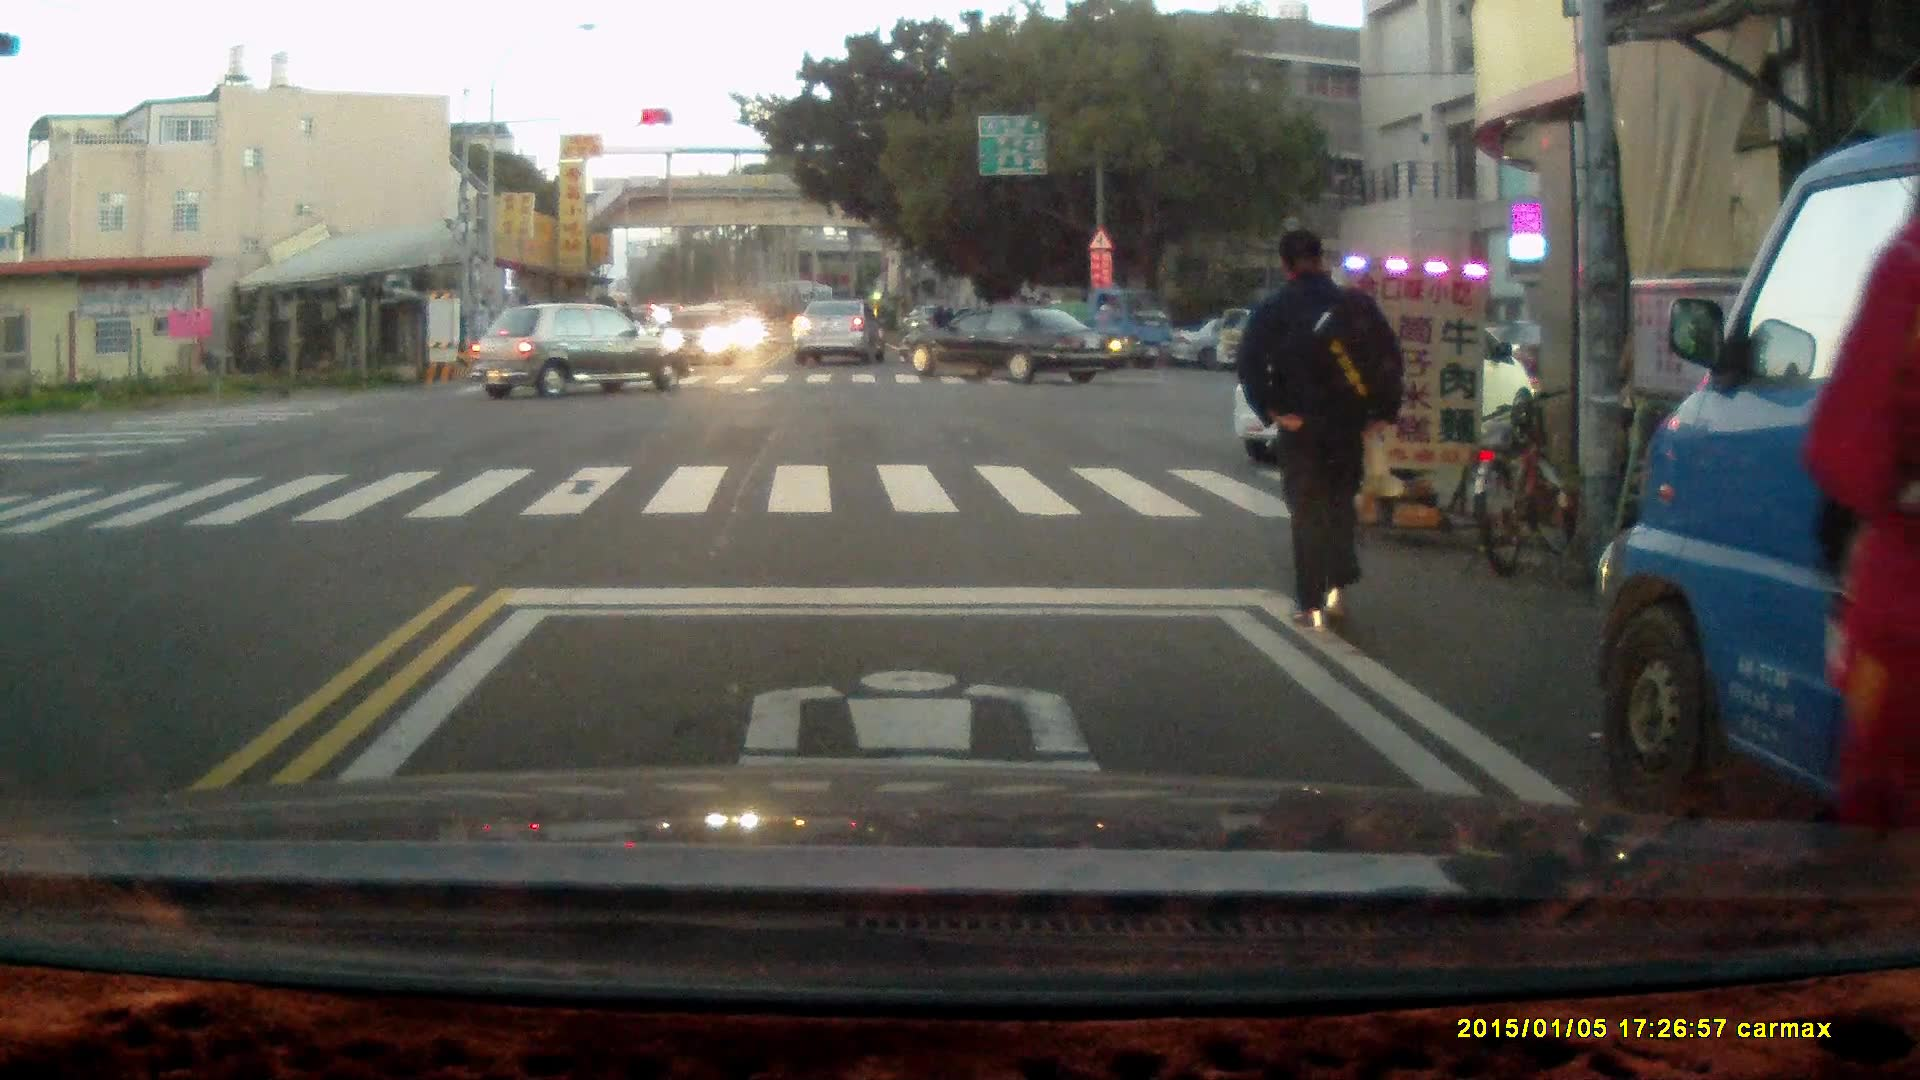pedestrian: (1792, 48, 1920, 860), (1234, 230, 1401, 647), (932, 293, 953, 355)
vehicle: (1598, 132, 1920, 852), (1233, 296, 1533, 459), (464, 305, 692, 402), (897, 303, 1128, 382), (797, 300, 886, 370)
